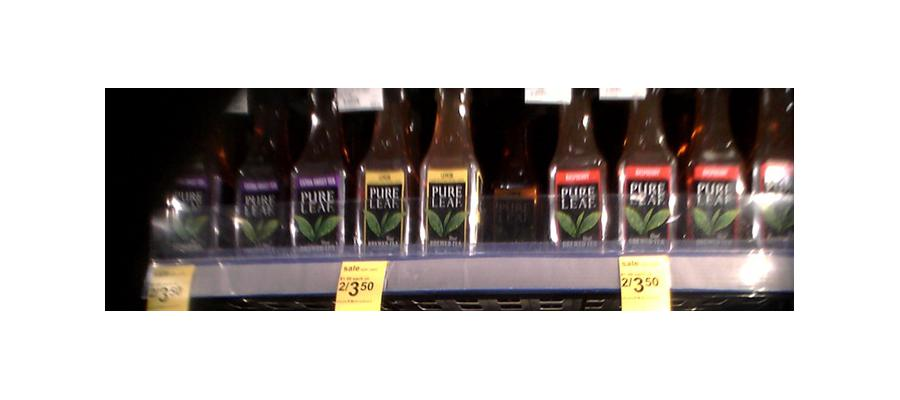bottle: (420, 84, 478, 253), (357, 84, 415, 251), (552, 84, 610, 249), (293, 87, 349, 252), (685, 93, 744, 248), (618, 90, 675, 250), (236, 91, 288, 249), (485, 99, 539, 246), (160, 108, 212, 253), (751, 90, 792, 244)
